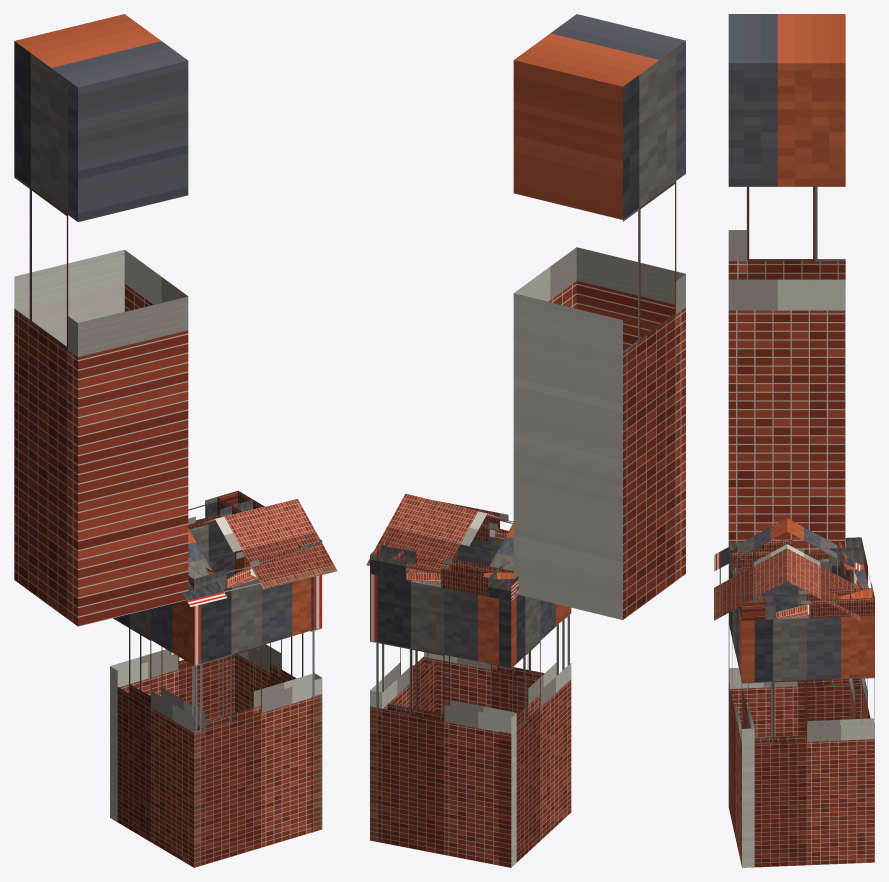
3 views of the same model, side by side, from view 1: azimuth 30°, elevation 25°; view 2: azimuth 150°, elevation 25°; view 3: azimuth 270°, elevation 25° (orthographic). The views are drawn at different scales.
Parts seen in each view (by area): view 1: 316903728__chimney_0_xb, 316903728__wall_0_xb, 316903728__wall_3_xb, 316903728_roof_-1_xb, 316903728__wall_2_xb, 316903728__wall_1_xb, 316903728__cornice_0, 316903728__cornice_2, 316903728__cornice_1; view 2: 316903728__chimney_0_xb, 316903728__wall_2_xb, 316903728__wall_3_xb, 316903728__wall_0_xb, 316903728_roof_1_xb, 316903728__cornice_2, 316903728__wall_1_xb, 316903728__cornice_0; view 3: 316903728__chimney_0_xb, 316903728__wall_1_xb, 316903728__wall_3_xb, 316903728__wall_0_xb, 316903728_roof_-1_xb, 316903728_roof_1_xb, 316903728__cornice_1, 316903728__cornice_3, 316903728__wall_2_xb, 316903728__cornice_0, 316903728__cornice_2.
Boxes of the visible parts, <box> form: 316903728__chimney_0_xb: <box>14,14,188,626</box>; 316903728__wall_0_xb: <box>186,577,322,867</box>; 316903728__wall_3_xb: <box>113,600,205,867</box>; 316903728_roof_-1_xb: <box>182,498,337,606</box>; 316903728__wall_2_xb: <box>110,523,234,822</box>; 316903728__wall_1_xb: <box>235,550,322,832</box>; 316903728__cornice_0: <box>194,547,301,589</box>; 316903728__cornice_2: <box>188,497,252,529</box>; 316903728__cornice_1: <box>217,490,322,550</box>; 316903728__chimney_0_xb: <box>513,14,685,619</box>; 316903728__wall_2_xb: <box>370,574,516,867</box>; 316903728__wall_3_xb: <box>499,594,571,867</box>; 316903728__wall_0_xb: <box>424,536,571,812</box>; 316903728_roof_1_xb: <box>366,493,519,599</box>; 316903728__cornice_2: <box>370,545,518,600</box>; 316903728__wall_1_xb: <box>370,647,436,712</box>; 316903728__cornice_0: <box>436,500,513,541</box>; 316903728__chimney_0_xb: <box>728,14,845,554</box>; 316903728__wall_1_xb: <box>741,614,874,867</box>; 316903728__wall_3_xb: <box>728,558,862,737</box>; 316903728__wall_0_xb: <box>728,563,754,867</box>; 316903728_roof_-1_xb: <box>714,518,787,620</box>; 316903728_roof_1_xb: <box>787,518,860,620</box>; 316903728__cornice_1: <box>740,588,874,619</box>; 316903728__cornice_3: <box>731,537,863,569</box>; 316903728__wall_2_xb: <box>849,564,874,723</box>; 316903728__cornice_0: <box>728,542,765,620</box>; 316903728__cornice_2: <box>838,537,872,598</box>.
Size of the model in its own units: 0.342 by 1.05 by 0.2064.
1 material, 1 textured.
